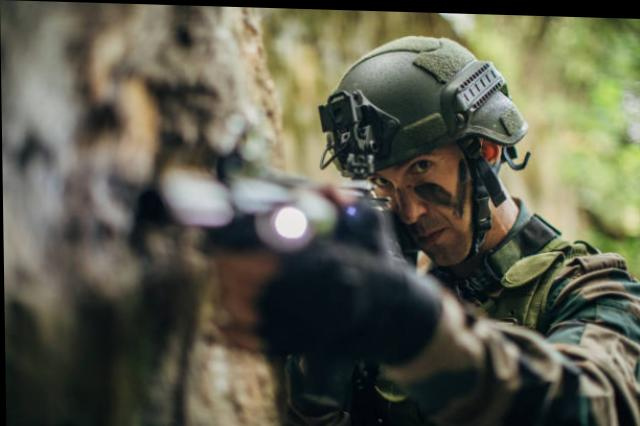other: (271, 58, 635, 424)
